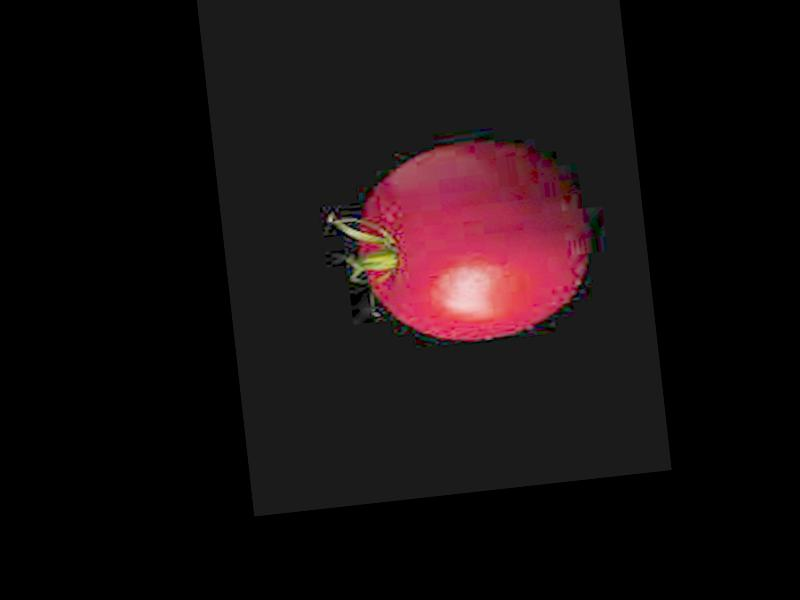Tomato: (350, 132, 590, 350)
